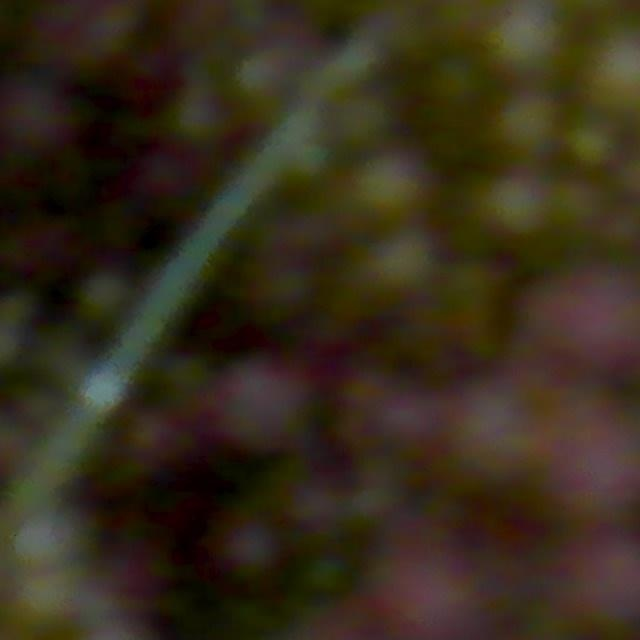SeaGrape: (344, 538, 504, 640), (523, 405, 640, 528), (526, 265, 640, 382), (317, 358, 427, 461), (20, 0, 138, 82), (560, 542, 640, 640), (210, 361, 303, 445), (485, 0, 569, 76), (0, 79, 73, 165), (355, 145, 433, 221), (367, 227, 439, 296), (480, 172, 552, 239), (585, 26, 640, 111), (494, 90, 560, 156), (330, 87, 395, 149), (218, 517, 282, 579), (426, 55, 483, 113), (545, 176, 605, 231), (566, 119, 621, 172)
